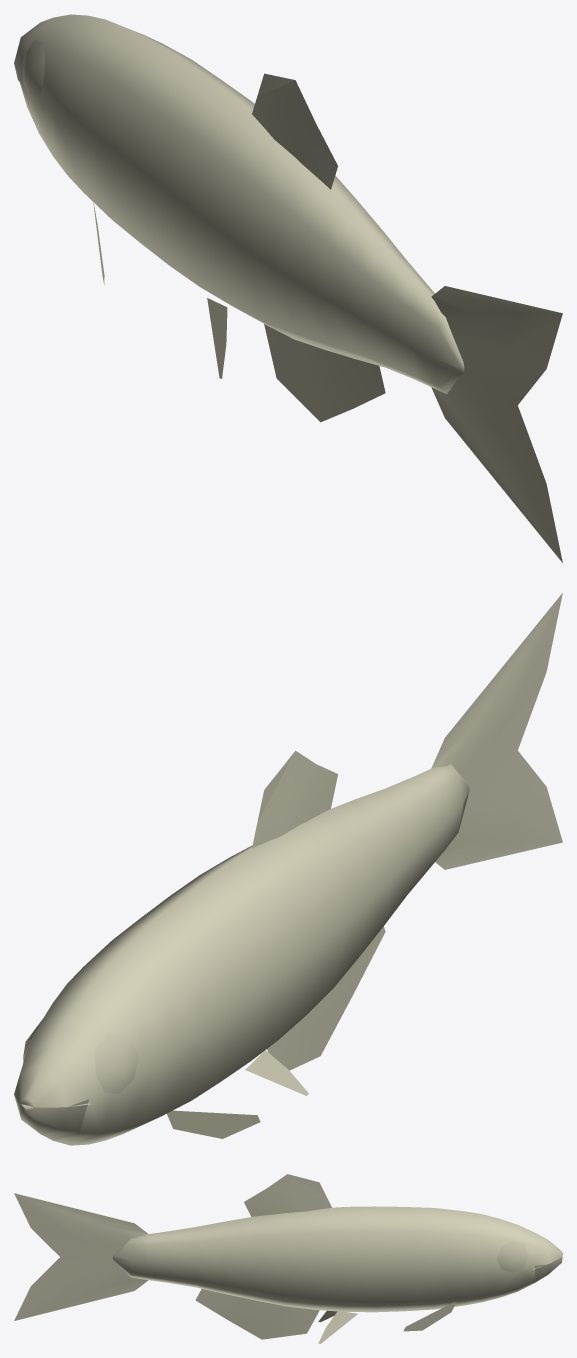
The model's file is zebra_danio_lo.glb.
3 views of the same model, one above another, from view 1: azimuth 30°, elevation 25°; view 2: azimuth 150°, elevation 25°; view 3: azimuth 270°, elevation 25° (orthographic). The views are drawn at different scales.
Parts seen in each view (by area): view 1: zebra_danio_lo; view 2: zebra_danio_lo; view 3: zebra_danio_lo.
Part boxes in pixels (x1,y1,x2,y2): zebra_danio_lo: (14,14,562,562); zebra_danio_lo: (14,593,562,1145); zebra_danio_lo: (14,1174,562,1343).
Bounding box in the file's own units: 0.00742 × 0.0147 × 0.0442.
